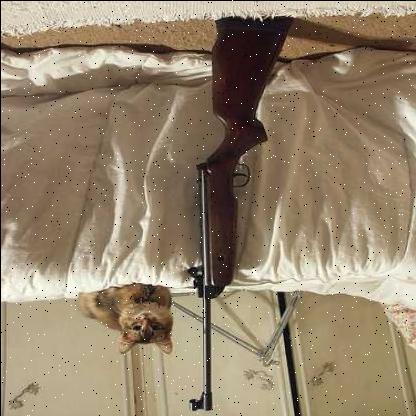rifle: (164, 1, 295, 413)
